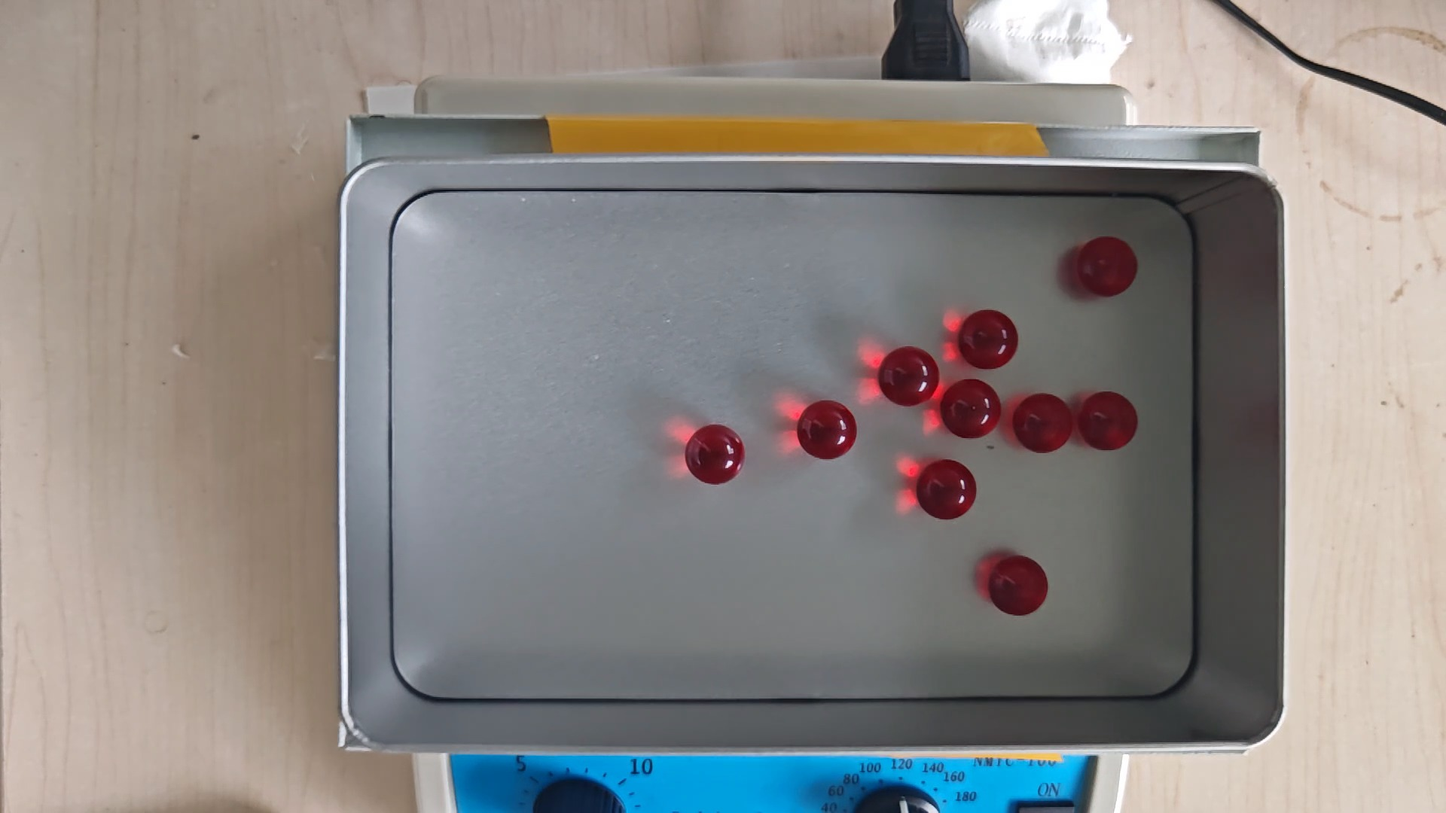ball: (916, 458, 977, 521), (1077, 235, 1138, 298), (1013, 392, 1074, 454), (1078, 390, 1138, 452), (797, 399, 857, 461), (685, 424, 745, 486), (879, 345, 939, 407), (958, 308, 1018, 369), (989, 555, 1049, 616), (941, 379, 1000, 439)
container: (390, 191, 1195, 700)
